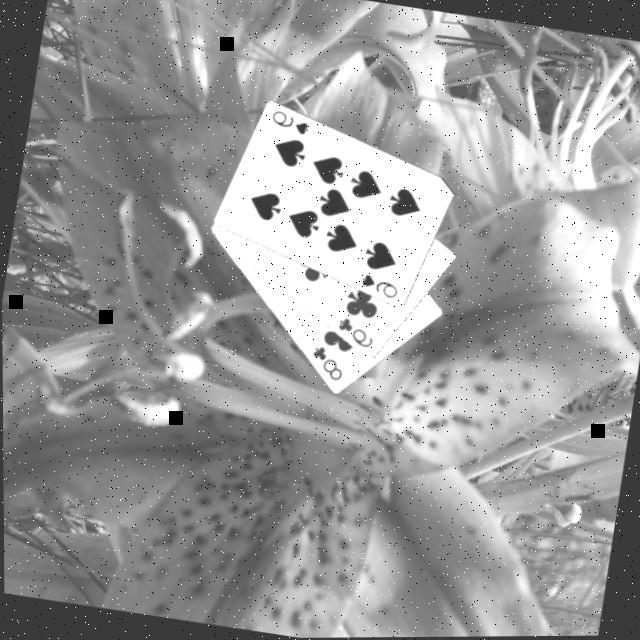6C: (332, 316, 379, 355)
8C: (306, 344, 349, 388)
9S: (356, 272, 404, 305), (266, 109, 314, 142)
